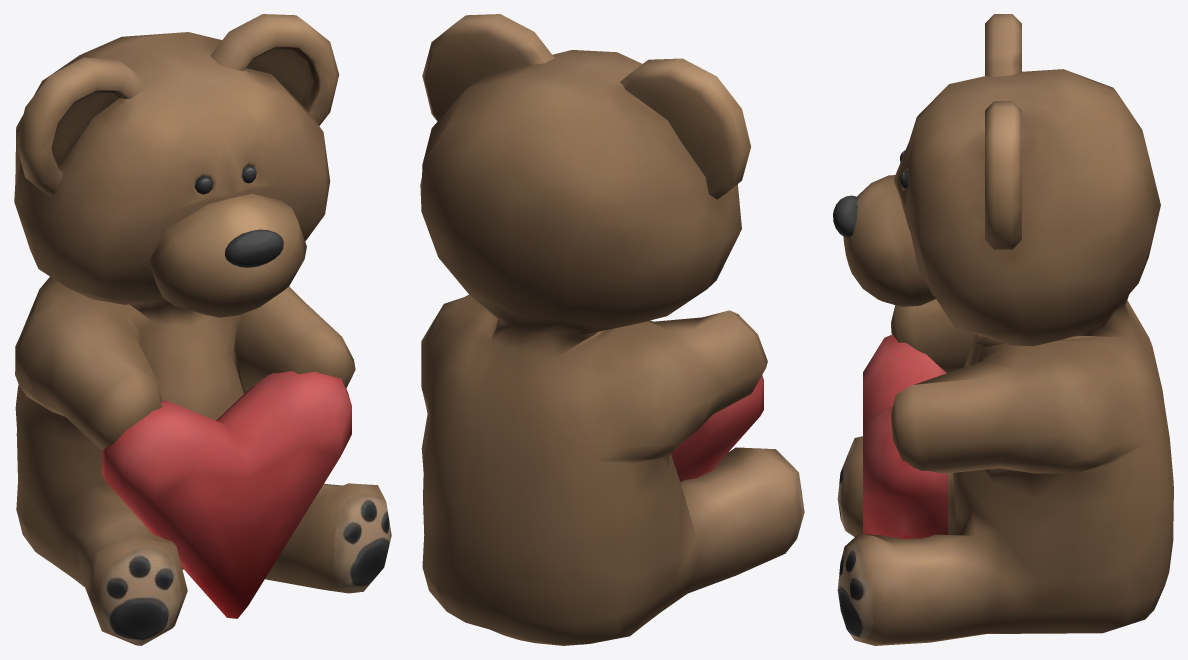
File: Teddy_M.fbx
3 views of the same model, side by side, from view 1: azimuth 30°, elevation 25°; view 2: azimuth 150°, elevation 25°; view 3: azimuth 270°, elevation 25° (orthographic). The views are drawn at different scales.
Parts seen in each view (by area): view 1: Teddy_M; view 2: Teddy_M; view 3: Teddy_M.
Boxes of the visible parts, bbox=[...] form: Teddy_M: bbox=[14, 14, 391, 645]; Teddy_M: bbox=[420, 14, 804, 645]; Teddy_M: bbox=[833, 14, 1173, 645].
Bounding box in the file's own units: 43.04 × 72.02 × 40.73.
Materials: 1 (1 with a texture image).
